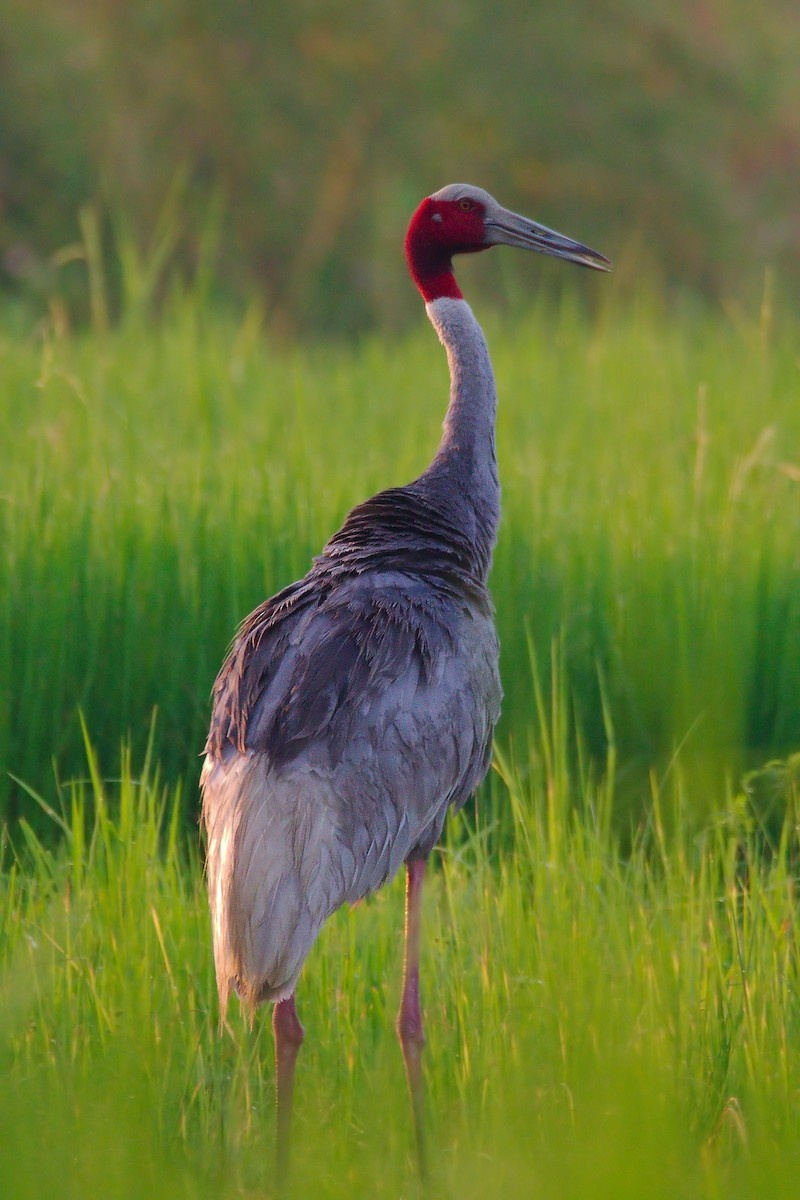crane: (187, 170, 625, 1174)
